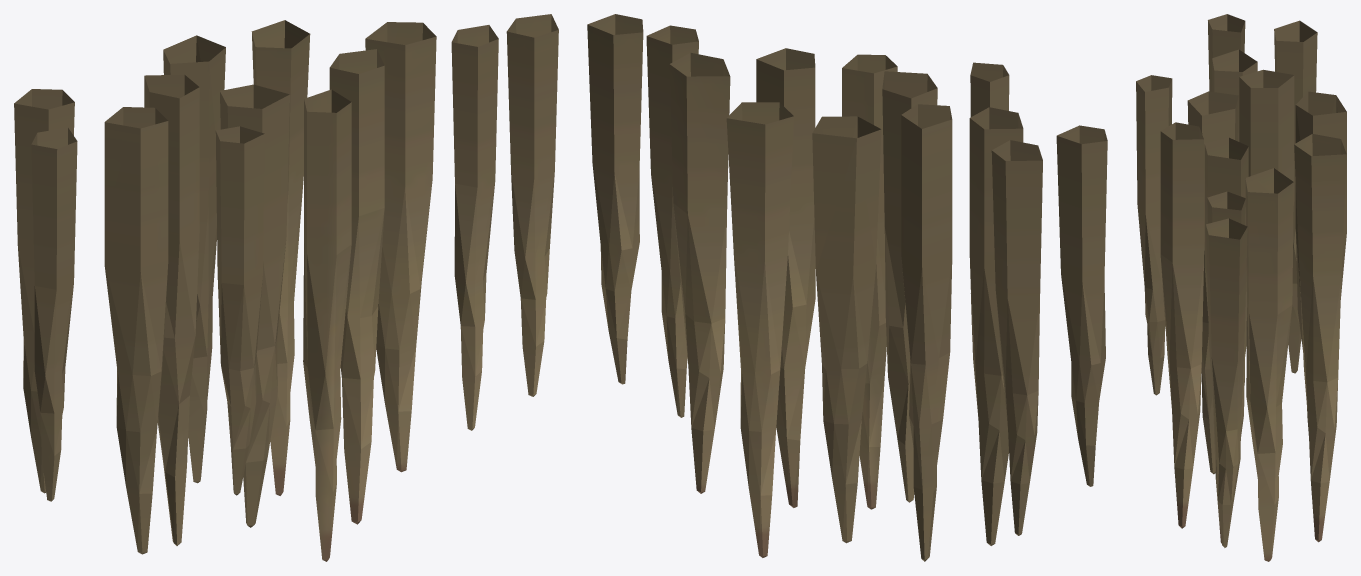
File: stalactiteTrap.fbx
3 renders of one model, left to right at view 1: azimuth 30°, elevation 25°; view 2: azimuth 150°, elevation 25°; view 3: azimuth 270°, elevation 25°, orthographic. The views are drawn at different scales.
Parts seen in each view (by area): view 1: stalactiteTrap; view 2: stalactiteTrap; view 3: stalactiteTrap.
Boxes of the visible parts, x1,y1,x2,y2 form: stalactiteTrap: (14,14,558,561); stalactiteTrap: (587,14,1107,561); stalactiteTrap: (1136,14,1346,561).
Bounding box in the file's own units: 7.14 × 6.06 × 2.86.
Materials: 1 (1 with a texture image).
